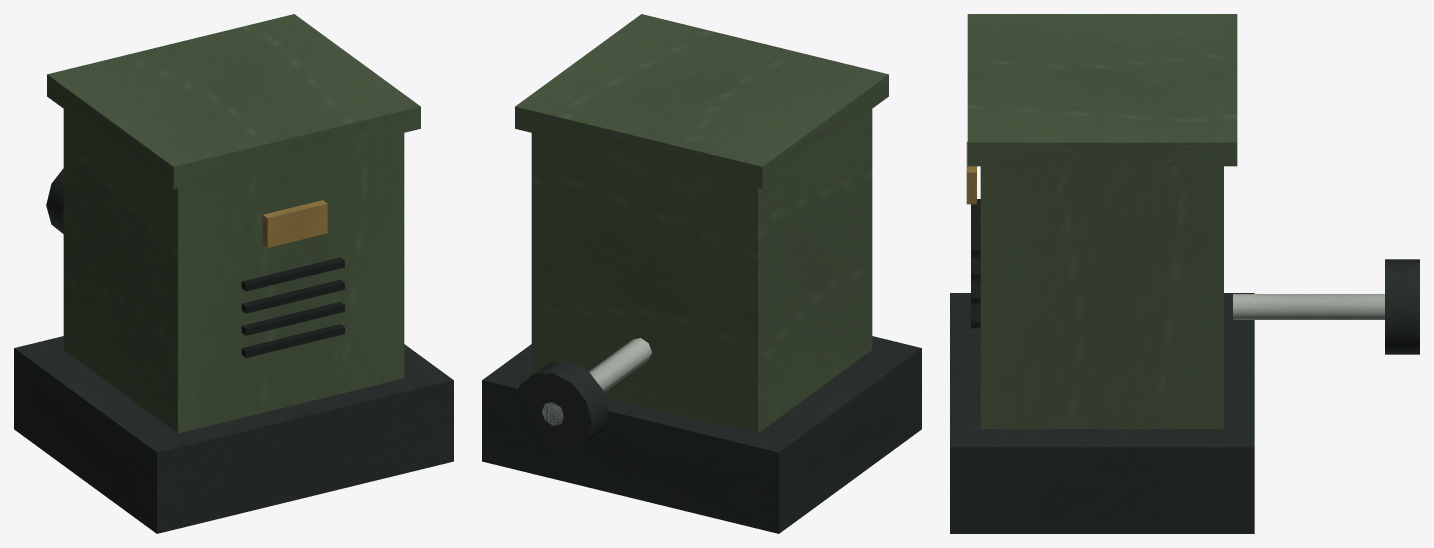
The model's file is SG_Drive.glb.
3 renders of one model, left to right at view 1: azimuth 30°, elevation 25°; view 2: azimuth 150°, elevation 25°; view 3: azimuth 270°, elevation 25°, orthographic. The views are drawn at different scales.
Visible parts, largest first — view 1: SG_Drive; view 2: SG_Drive; view 3: SG_Drive.
Part boxes in pixels (<box>): SG_Drive: <box>14,14,453,533</box>; SG_Drive: <box>482,14,921,533</box>; SG_Drive: <box>950,14,1419,533</box>.
Bounding box in the file's own units: 0.42 × 0.48 × 0.54.
Materials: 1 (1 with a texture image).
